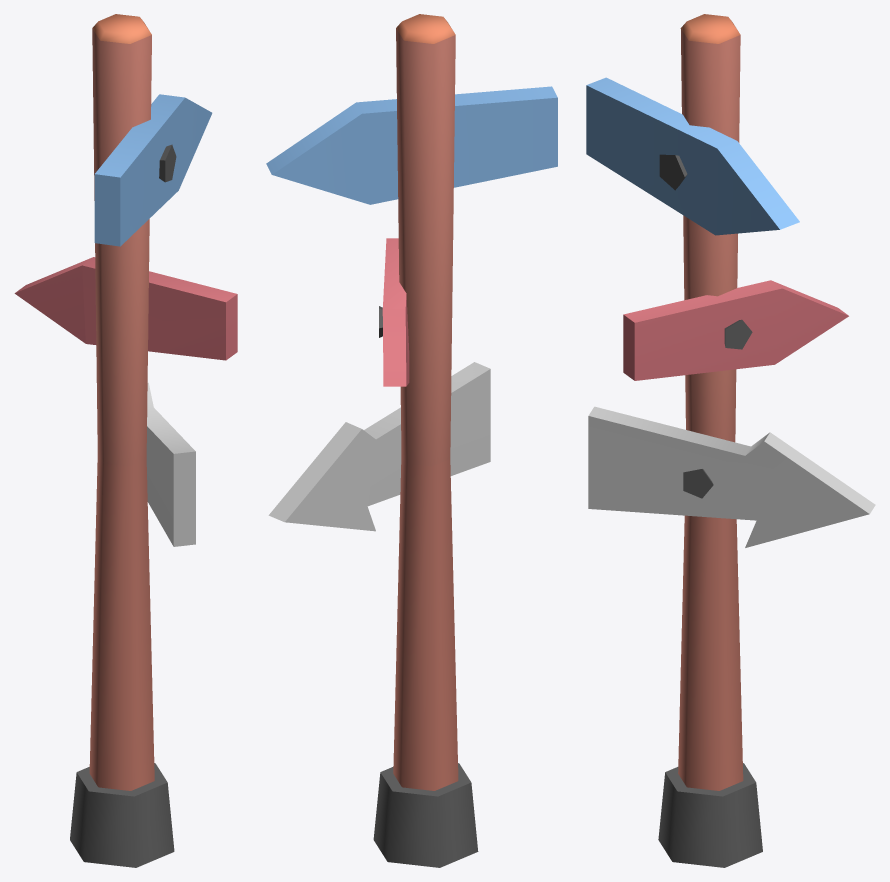
The model's file is pointer_001.78b89d50.glb.
The picture shows the model from 3 angles, left to right: view 1: azimuth 30°, elevation 25°; view 2: azimuth 150°, elevation 25°; view 3: azimuth 270°, elevation 25°; orthographic projection.
Visible parts, largest first — view 1: pointer_001; view 2: pointer_001; view 3: pointer_001.
Boxes of the visible parts, box(x1,y1,x2,y2) form: pointer_001: box(14, 14, 237, 867); pointer_001: box(266, 14, 557, 867); pointer_001: box(586, 14, 875, 867).
Bounding box in the file's own units: 0.5671 × 2.17 × 0.6942.
Materials: 1 (1 with a texture image).
